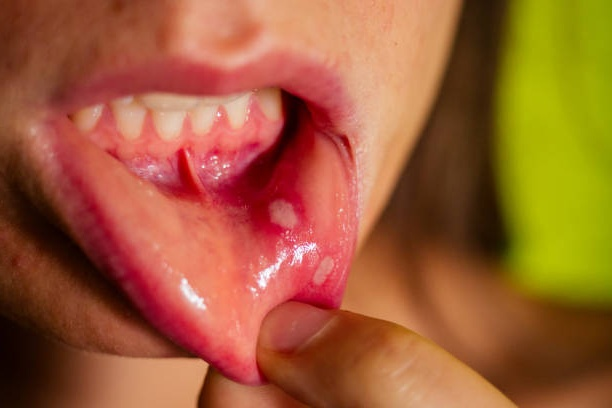Ulcer: (308, 249, 346, 296), (267, 199, 305, 235)
